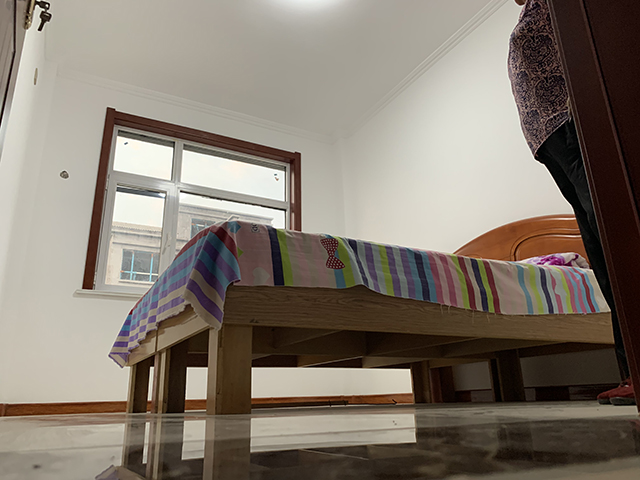bed: (106, 213, 618, 417)
